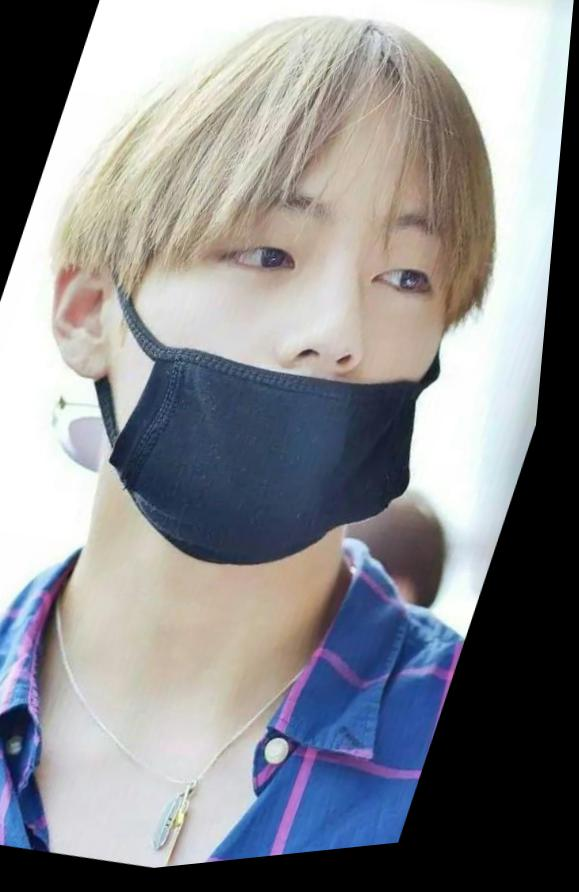WRONG: (64, 116, 509, 612)
